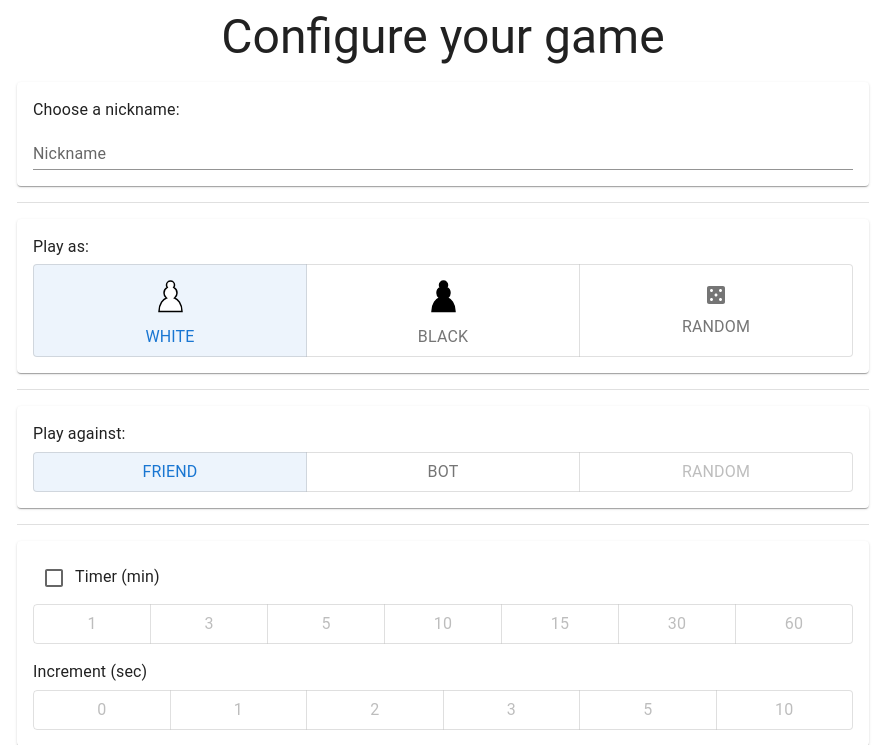
Test: NewGame page › time control (Timer + Increment toggles) › enables the increment toggle once a time is chosen via the checkbox
The image size is (887, 745).
# Checking the timer box seeds a 5-minute clock (timed game).
Click the checkbox named "enable a clock": (54, 578) x1=42 y1=566 x2=66 y2=590
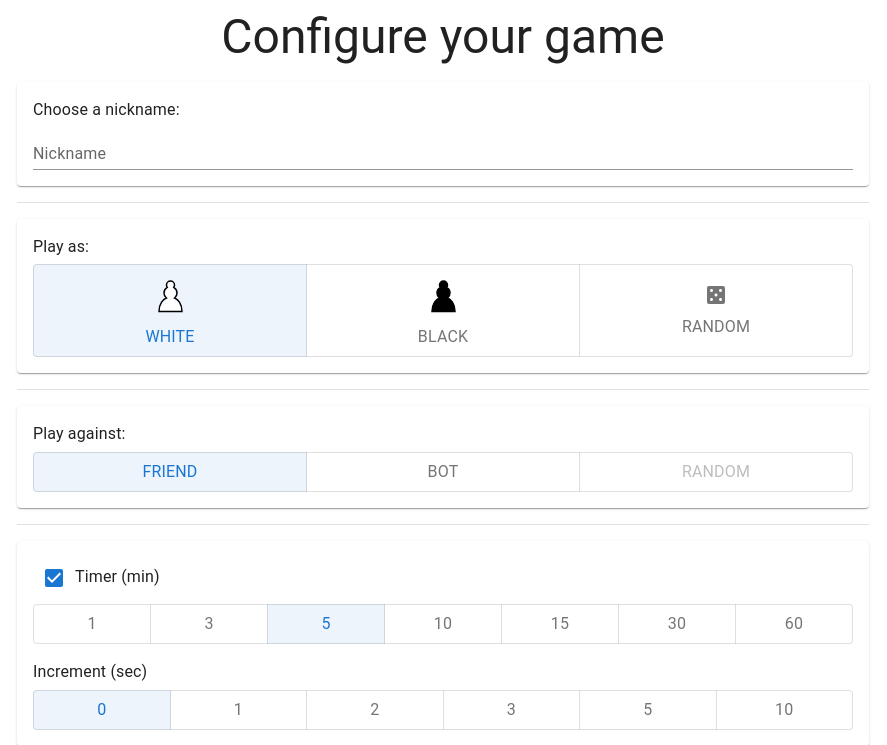
Expected: the 2nd button "5" is enabled, x1=579 y1=690 x2=716 y2=730
